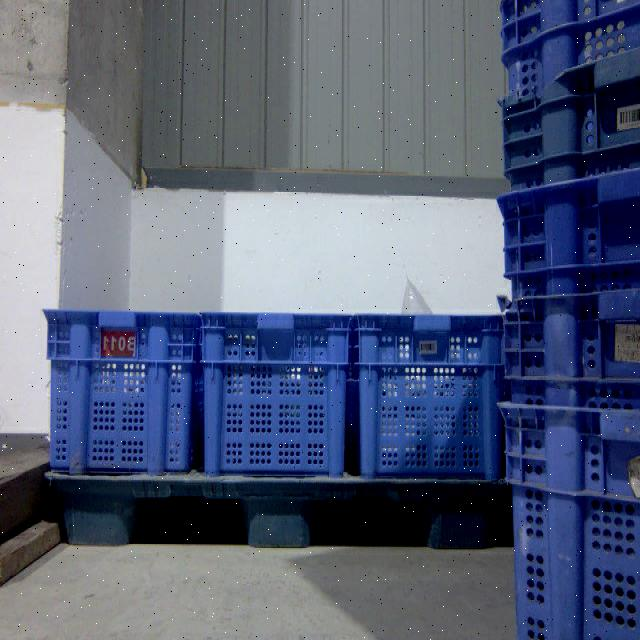block: (45, 475, 150, 545), (232, 482, 322, 551), (436, 484, 508, 548)
front: (51, 479, 511, 544)
hole pallet: (128, 496, 247, 548), (308, 500, 434, 548)
